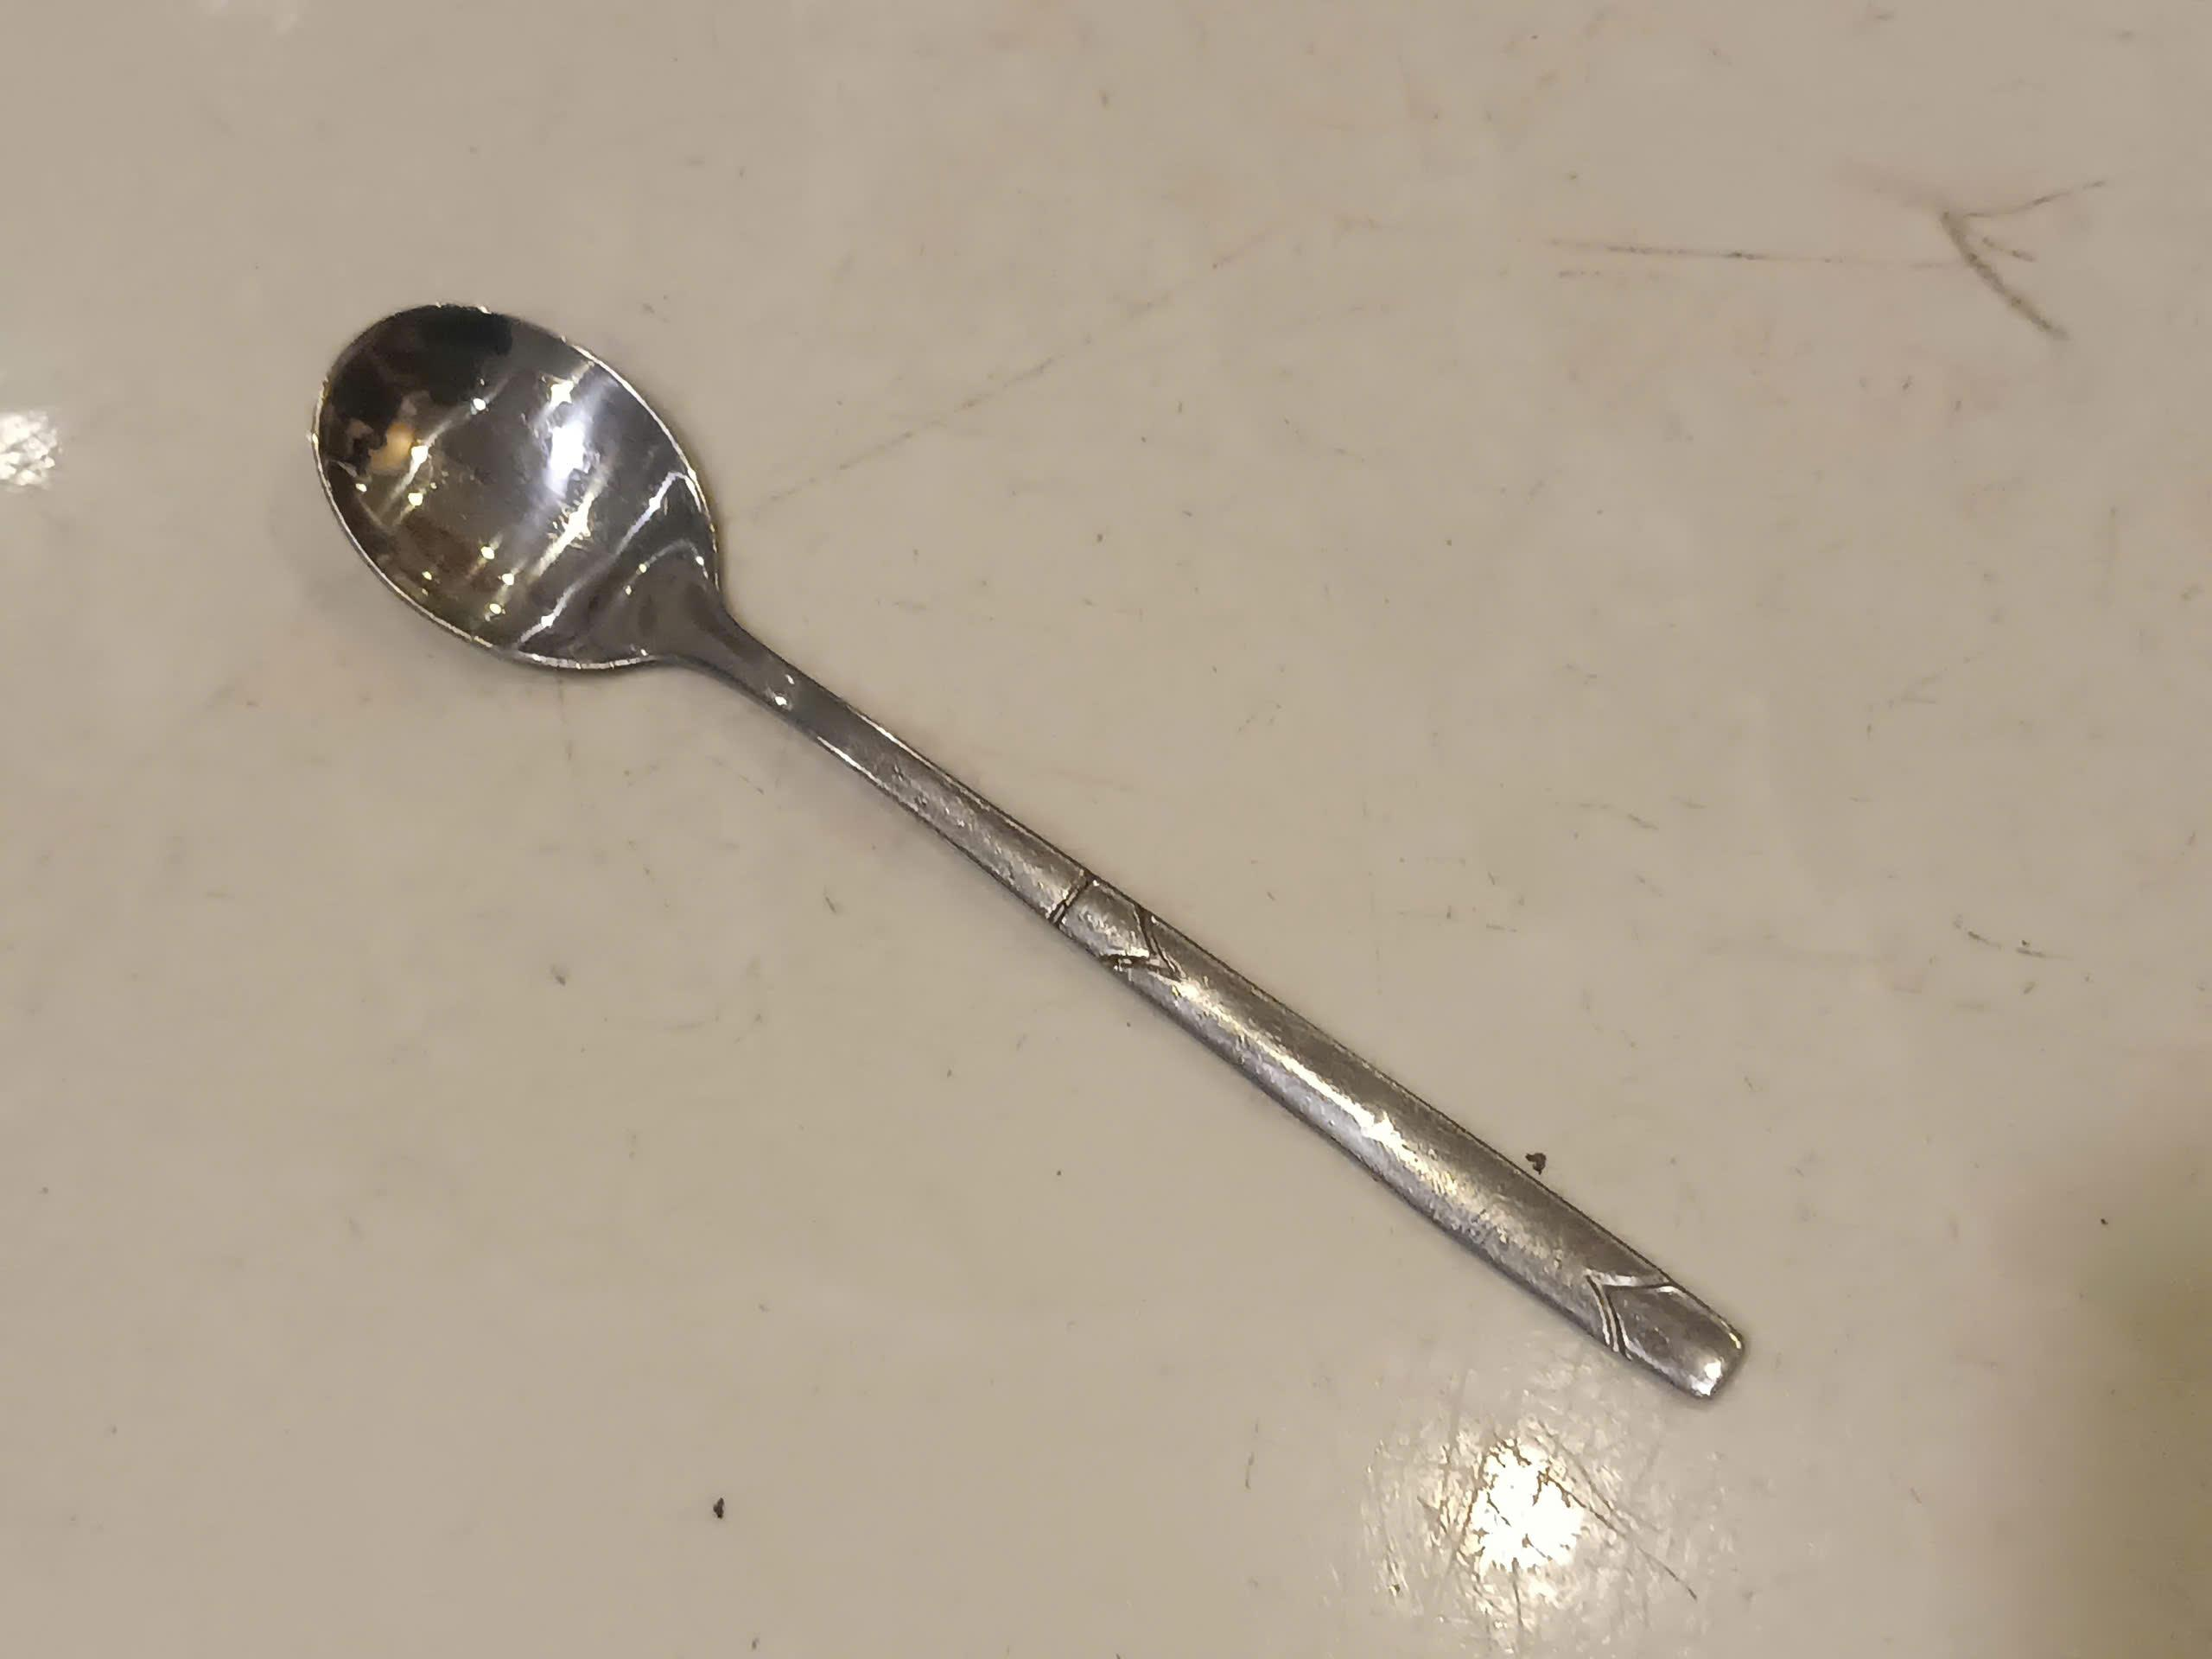Vo co: (315, 300, 1747, 1406)
